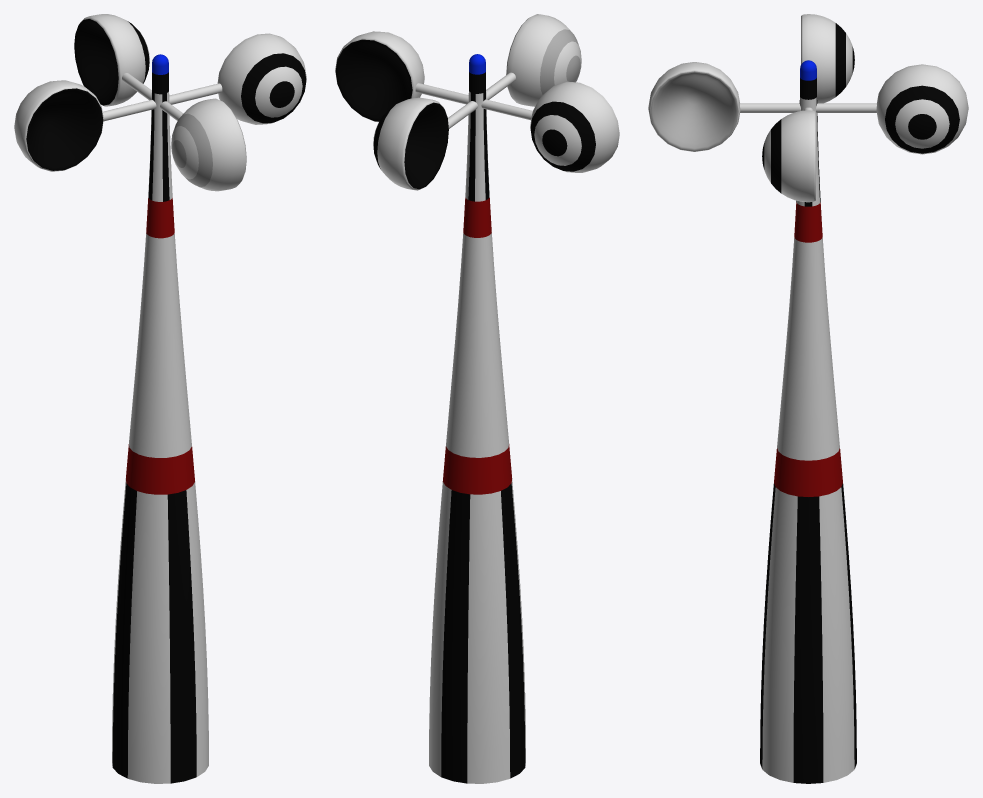
File: Turbine.fbx
3 renders of one model, left to right at view 1: azimuth 30°, elevation 25°; view 2: azimuth 150°, elevation 25°; view 3: azimuth 270°, elevation 25°, orthographic.
Parts seen in each view (by area): view 1: turbine, pSphere1 (×4), pCylinder3, pCylinder5; view 2: turbine, pSphere1 (×4), pCylinder3, pCylinder5; view 3: turbine, pSphere1 (×4), pCylinder4, pCylinder2.
Part boxes in pixels (<box>): turbine: <box>112,54,208,783</box>; pSphere1 (×4): <box>14,14,306,191</box>; pCylinder3: <box>169,83,222,104</box>; pCylinder5: <box>102,100,156,121</box>; turbine: <box>429,54,525,783</box>; pSphere1 (×4): <box>335,14,619,190</box>; pCylinder3: <box>415,83,468,104</box>; pCylinder5: <box>481,99,532,120</box>; turbine: <box>760,60,856,783</box>; pSphere1 (×4): <box>648,14,968,202</box>; pCylinder4: <box>816,103,876,112</box>; pCylinder2: <box>740,103,800,112</box>.
Size of the model in its own units: 3.31 by 8 by 3.31.
